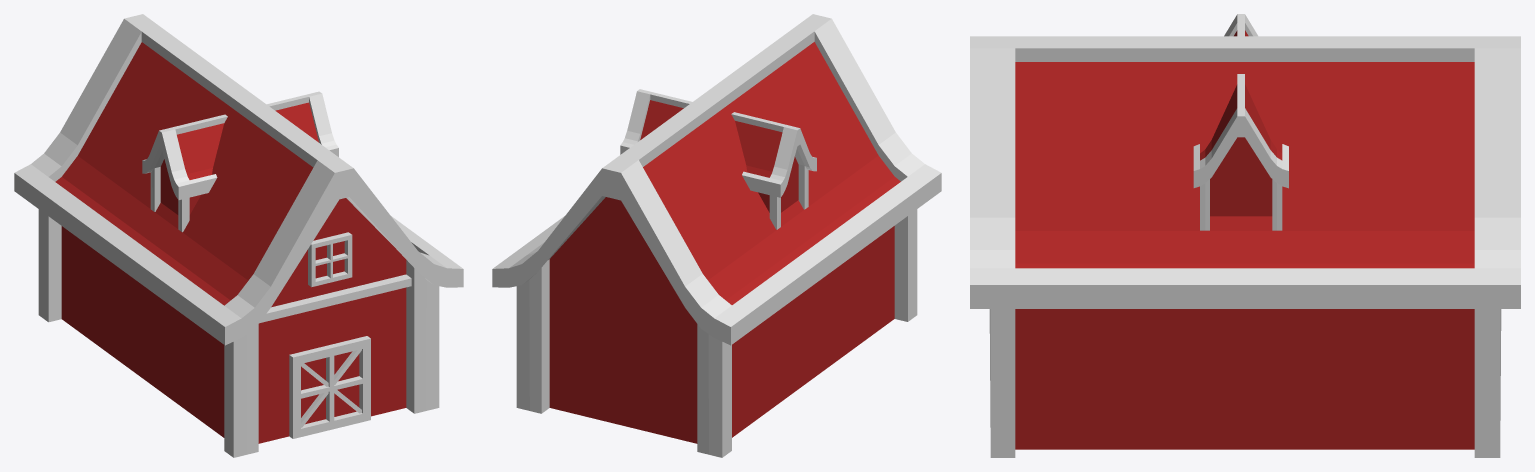
The model's file is farm.fbx.
The picture shows the model from 3 angles, left to right: view 1: azimuth 30°, elevation 25°; view 2: azimuth 150°, elevation 25°; view 3: azimuth 270°, elevation 25°; orthographic projection. The views are drawn at different scales.
Parts seen in each view (by area): view 1: Cube.002, Cube.006, Plan, Cube.003, Plan.004, Cube.004; view 2: Cube.002, Cube.006; view 3: Cube.002, Cube.006.
Part boxes in pixels (box(x1,y1,x2,y2)): Cube.002: box(14, 14, 463, 457); Cube.006: box(142, 91, 338, 232); Plan: box(289, 336, 370, 438); Cube.003: box(259, 274, 411, 323); Plan.004: box(308, 232, 352, 287); Cube.004: box(301, 349, 361, 427); Cube.002: box(492, 14, 941, 457); Cube.006: box(620, 89, 816, 229); Cube.002: box(970, 36, 1520, 457); Cube.006: box(1193, 14, 1288, 230).
Size of the model in its own units: 266 by 286 by 408.
